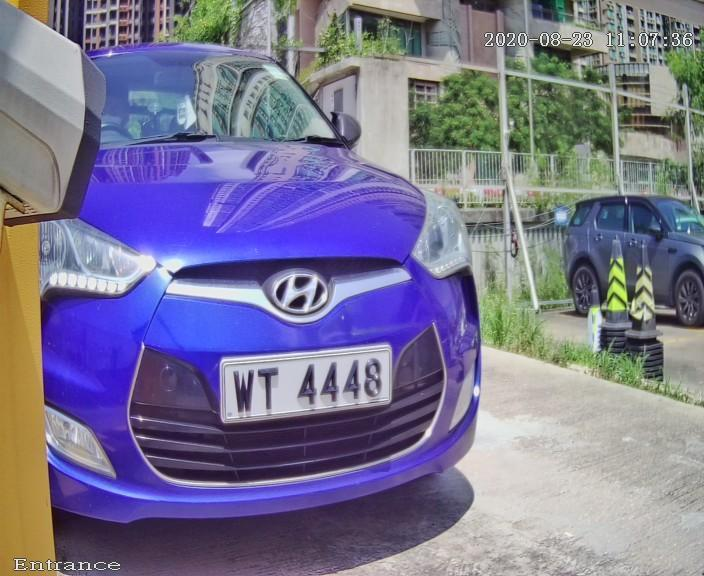License Plate: (172, 314, 422, 446)
